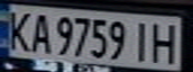5: (87, 16, 112, 60)
7: (69, 14, 93, 57)
9: (51, 12, 75, 56), (106, 17, 130, 61)
A: (24, 10, 54, 54)
H: (145, 19, 184, 64)
I: (127, 18, 157, 63)
K: (3, 7, 36, 52)
